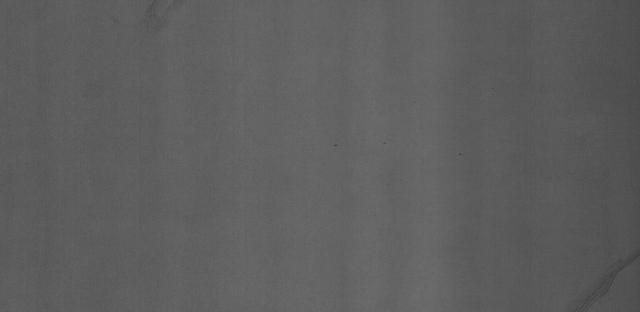water_spot: (567, 245, 640, 311), (123, 1, 189, 54)
